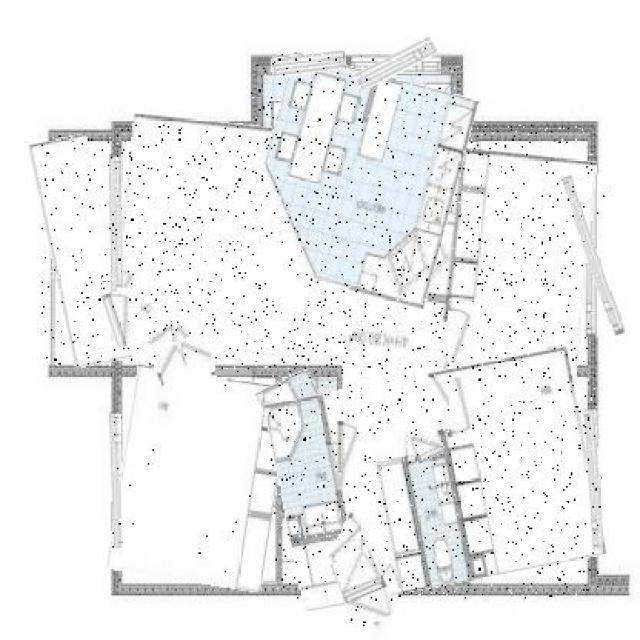door: (336, 551, 392, 626), (151, 337, 214, 386), (106, 289, 142, 348), (449, 378, 477, 438), (449, 308, 477, 363), (334, 514, 361, 563), (409, 428, 443, 460), (337, 420, 357, 472)
window: (576, 174, 612, 337), (354, 46, 438, 83), (584, 409, 602, 551), (272, 52, 346, 76), (111, 154, 123, 292), (110, 412, 122, 548)
zone: (117, 125, 592, 377), (274, 360, 598, 598), (251, 63, 466, 299), (113, 369, 284, 588), (42, 137, 122, 368), (269, 372, 351, 511)
